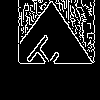H: (25, 25, 67, 82)
